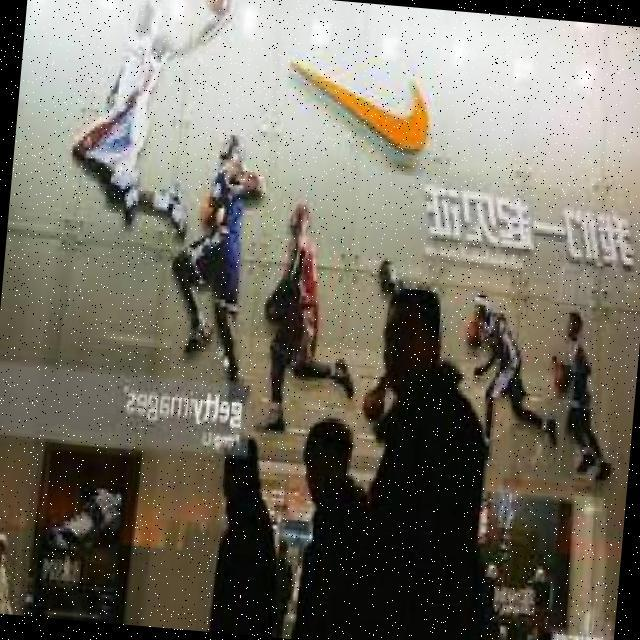Nike: (281, 52, 443, 161)
